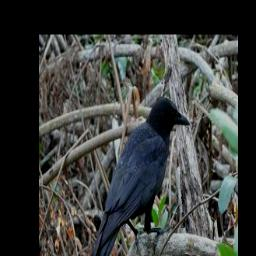Crow: (84, 96, 191, 256)
